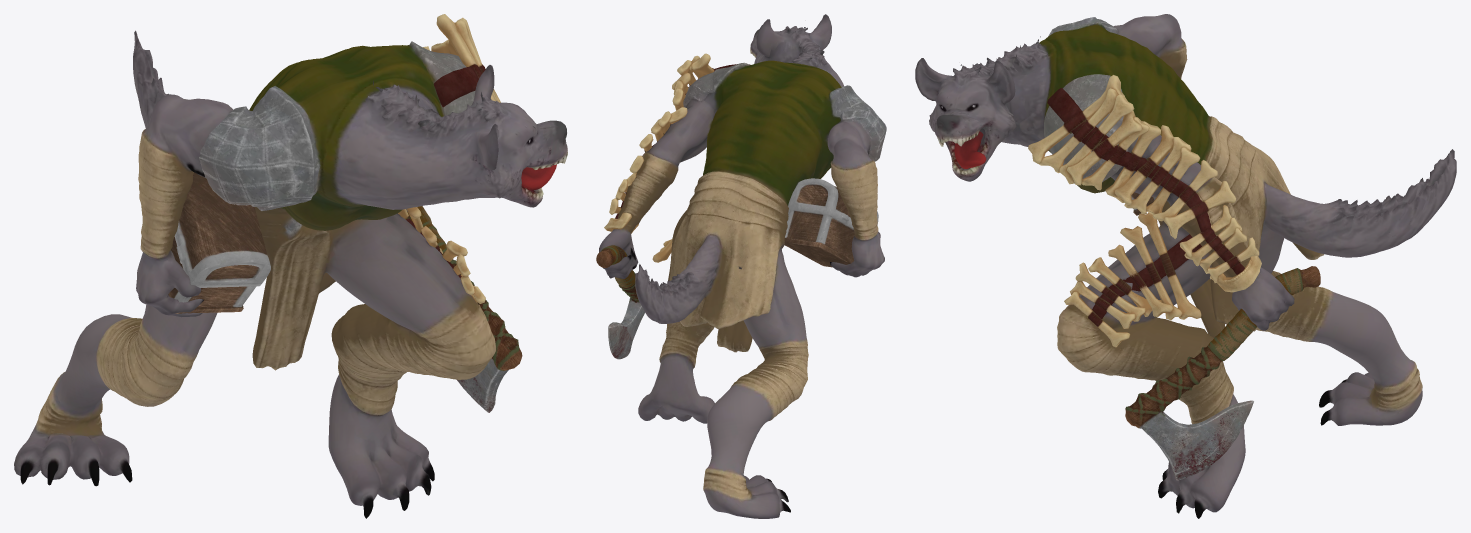
Rendered from MZ4250 - Gnoll Havoc Runner.glb.
The picture shows the model from 3 angles, left to right: view 1: azimuth 30°, elevation 25°; view 2: azimuth 150°, elevation 25°; view 3: azimuth 270°, elevation 25°; orthographic projection. The views are drawn at different scales.
Visible parts, largest first — view 1: Body.004; view 2: Body.004; view 3: Body.004.
Boxes of the visible parts, x1,y1,x2,y2 form: Body.004: (14,14,567,518); Body.004: (596,14,886,518); Body.004: (915,14,1456,518).
Size of the model in its own units: 66.24 by 88.42 by 100.
6 materials, 6 textured.
